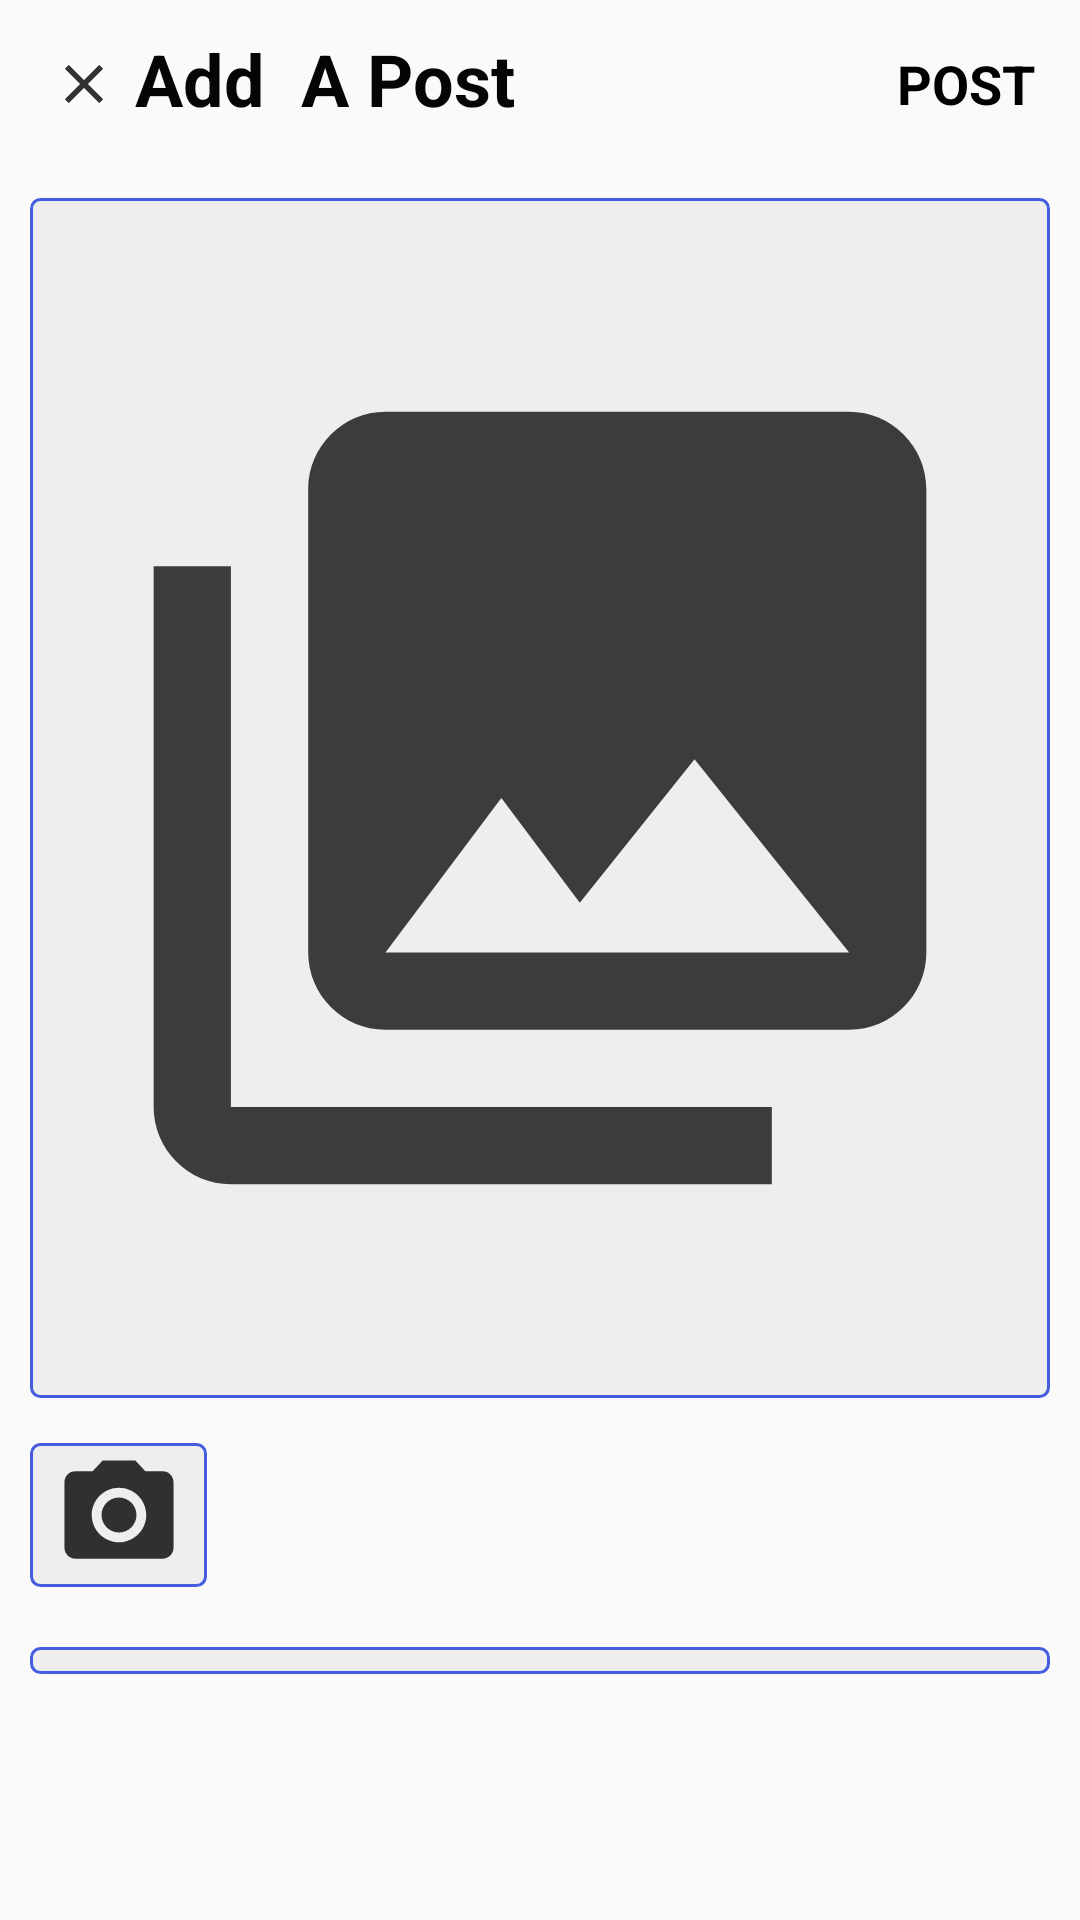

Icon bounding boxes for this 1080*1920 phone screenshot, format (x1, y1, x2, y2):
camera: (30, 1443, 207, 1587)
cross: (65, 65, 103, 103)
